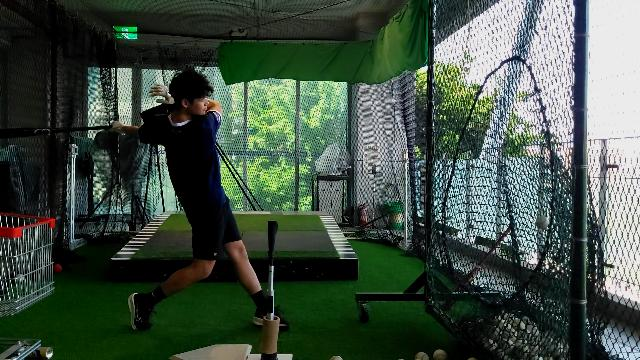baseball bat: (0, 124, 112, 138)
